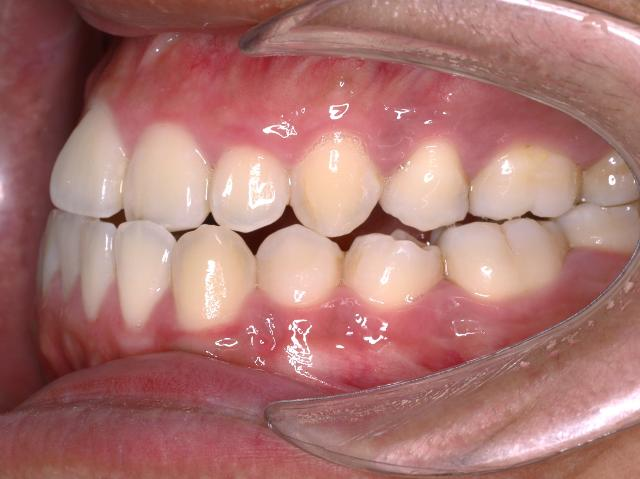canine class II 1/4: (168, 143, 344, 333)
molar class I: (444, 137, 586, 301)
